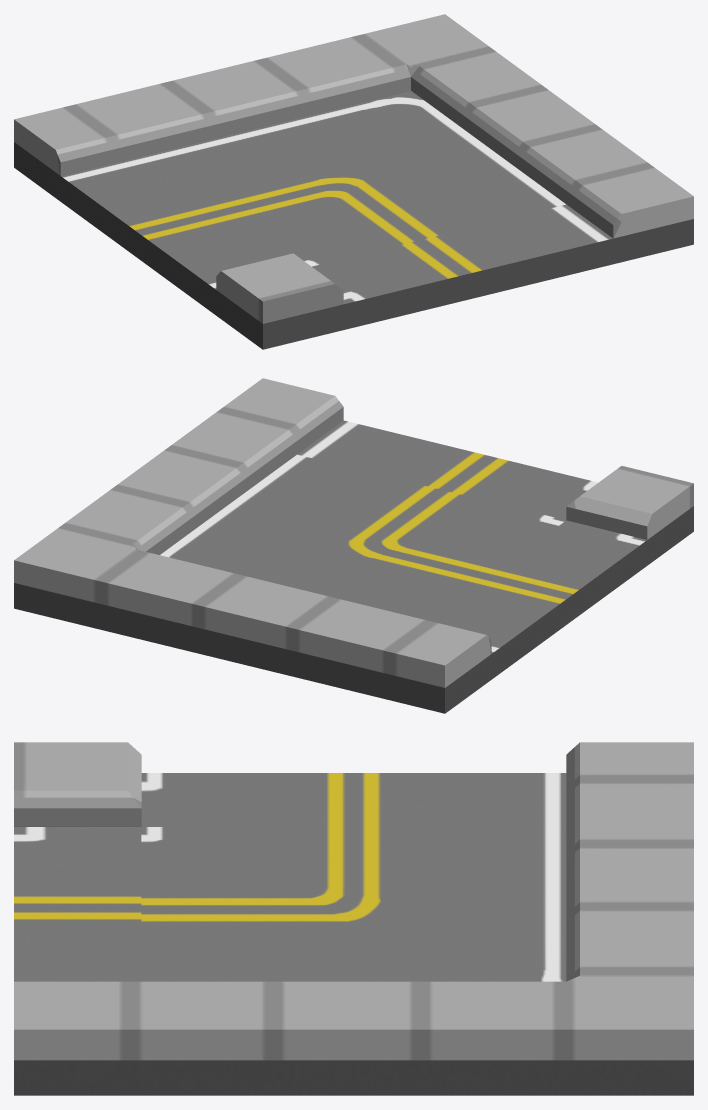
Rendered from RoadCurve.FBX.
3 views of the same model, one above another, from view 1: azimuth 30°, elevation 25°; view 2: azimuth 150°, elevation 25°; view 3: azimuth 270°, elevation 25° (orthographic). The views are drawn at different scales.
Parts seen in each view (by area): view 1: RoadCurve; view 2: RoadCurve; view 3: RoadCurve.
Boxes of the visible parts, left/top/right/bottom form: RoadCurve: left=14, top=14, right=693, bottom=349; RoadCurve: left=14, top=378, right=693, bottom=713; RoadCurve: left=14, top=742, right=693, bottom=1095.
Size of the model in its own units: 5.08 by 0.5438 by 5.08.
1 material, 1 textured.
